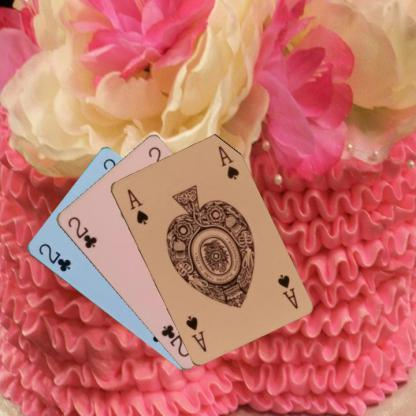2c: (36, 240, 73, 274), (64, 214, 98, 250)
As: (124, 186, 150, 226), (274, 270, 300, 310)
